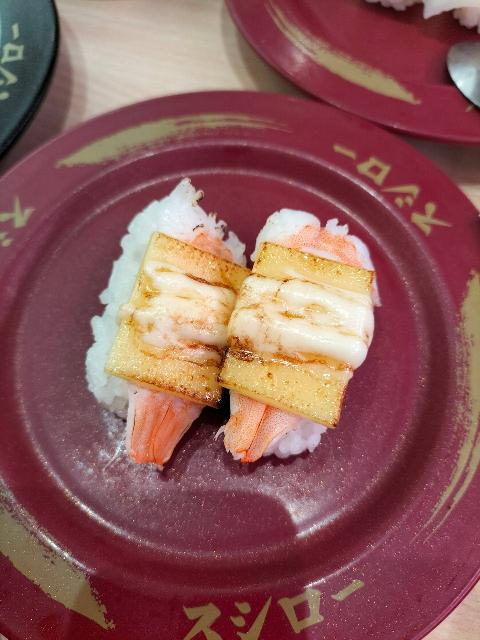janback: (0, 0, 69, 143)
janred: (0, 106, 480, 640), (238, 6, 480, 140)
